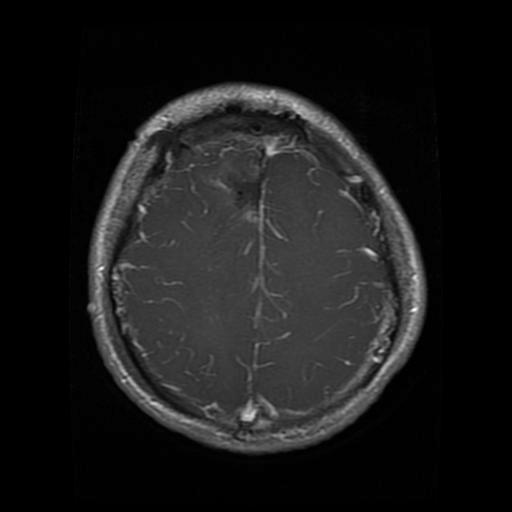Tumour-Glioma: (212, 156, 285, 231)
